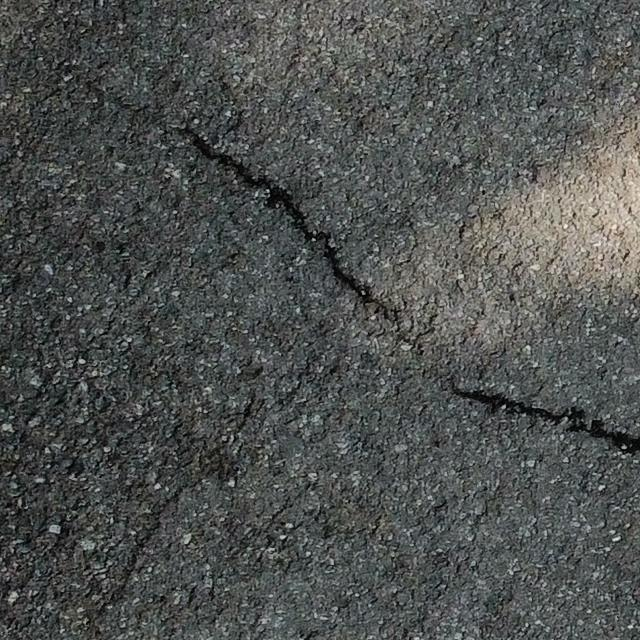TransverseCrack: (179, 137, 390, 316), (450, 382, 640, 459)
